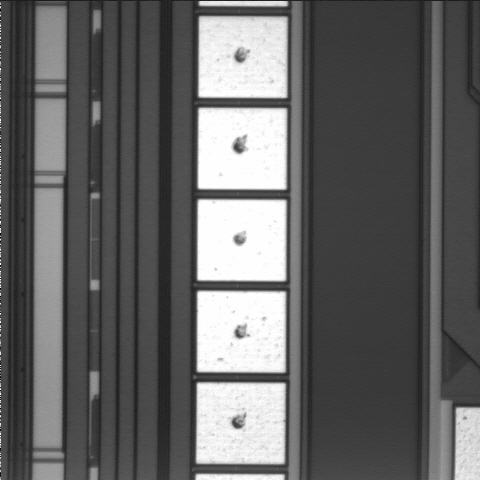pad: (198, 16, 287, 98), (198, 108, 287, 190), (197, 199, 286, 281), (197, 291, 286, 373), (196, 383, 285, 464)
